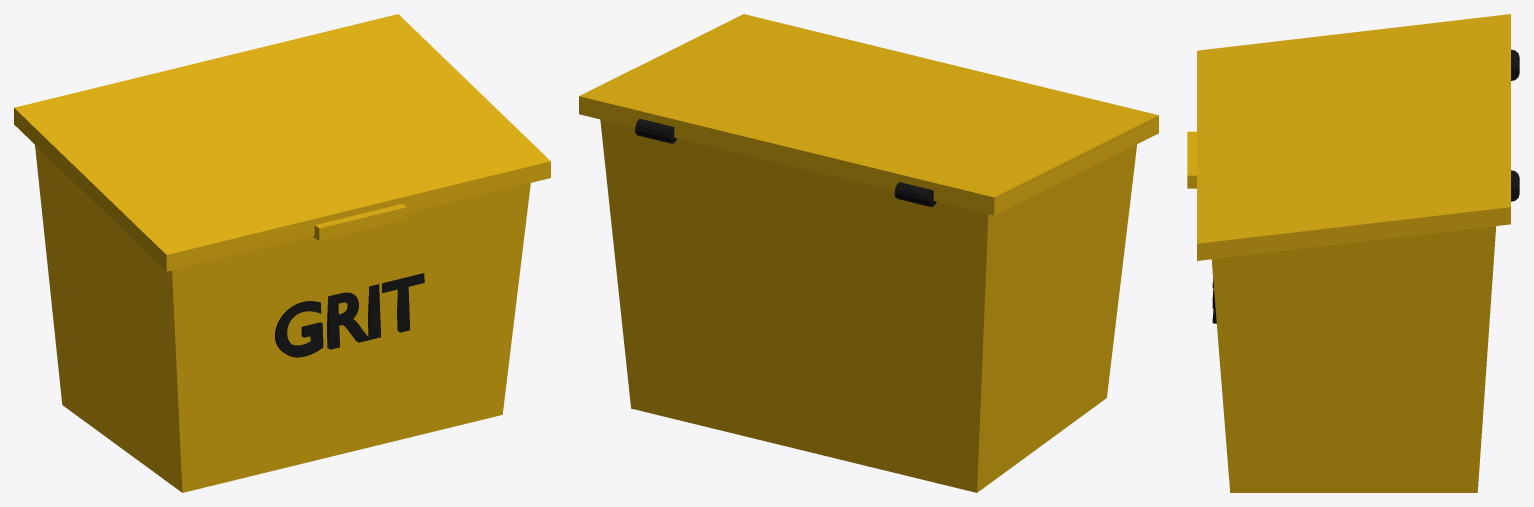
The model's file is grit-bin.glb.
3 views of the same model, side by side, from view 1: azimuth 30°, elevation 25°; view 2: azimuth 150°, elevation 25°; view 3: azimuth 270°, elevation 25° (orthographic). The views are drawn at different scales.
Parts seen in each view (by area): view 1: body; view 2: body; view 3: body.
Boxes of the visible parts, x1,y1,x2,y2 form: body: [14, 14, 550, 492]; body: [579, 14, 1158, 492]; body: [1187, 14, 1519, 492].
Bounding box in the file's own units: 0.96 × 0.7 × 0.698.
